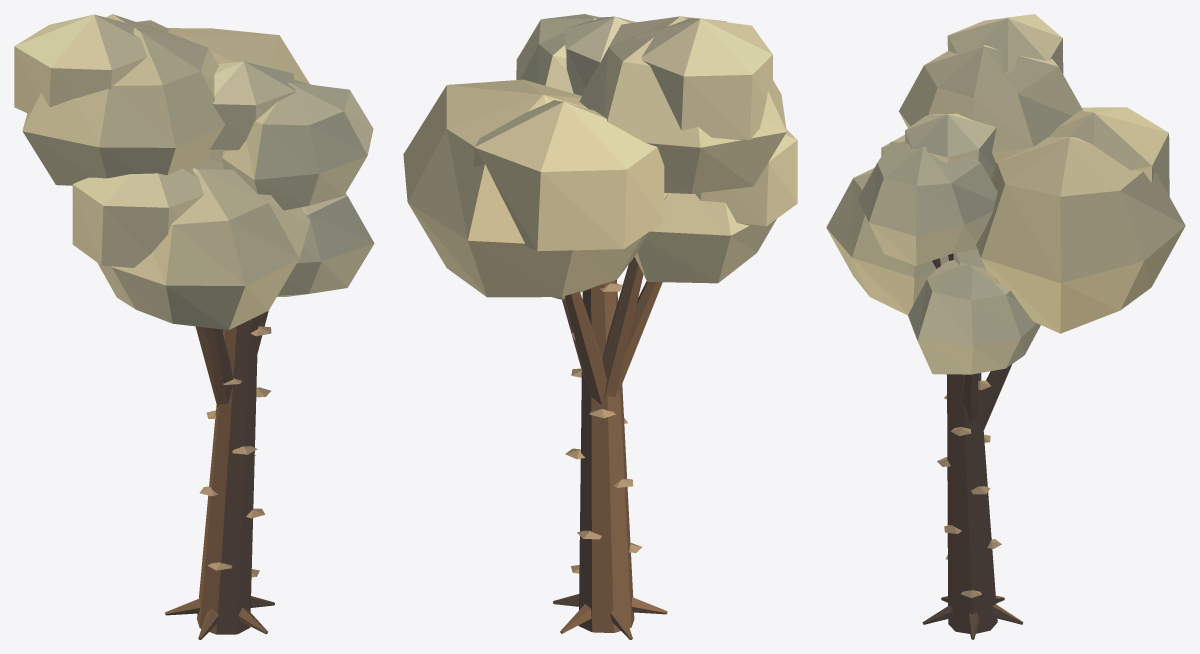
Rendered from extension_node_10_snow.glb.
The picture shows the model from 3 angles, left to right: view 1: azimuth 30°, elevation 25°; view 2: azimuth 150°, elevation 25°; view 3: azimuth 270°, elevation 25°; orthographic projection. The views are drawn at different scales.
Parts seen in each view (by area): view 1: extension_node_10_snow; view 2: extension_node_10_snow; view 3: extension_node_10_snow.
Boxes of the visible parts, x1,y1,x2,y2 form: extension_node_10_snow: [14, 14, 374, 639]; extension_node_10_snow: [403, 14, 797, 639]; extension_node_10_snow: [826, 14, 1185, 639].
Size of the model in its own units: 2.44 by 4.35 by 2.54.
